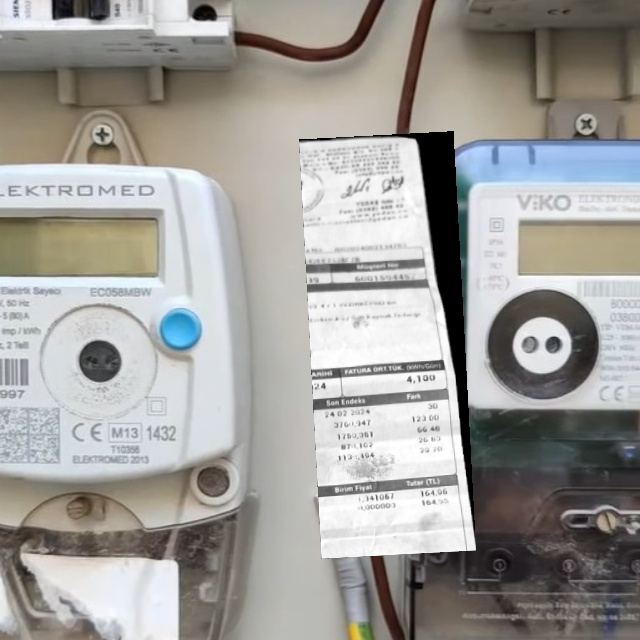electricity-bill: (299, 130, 476, 558)
